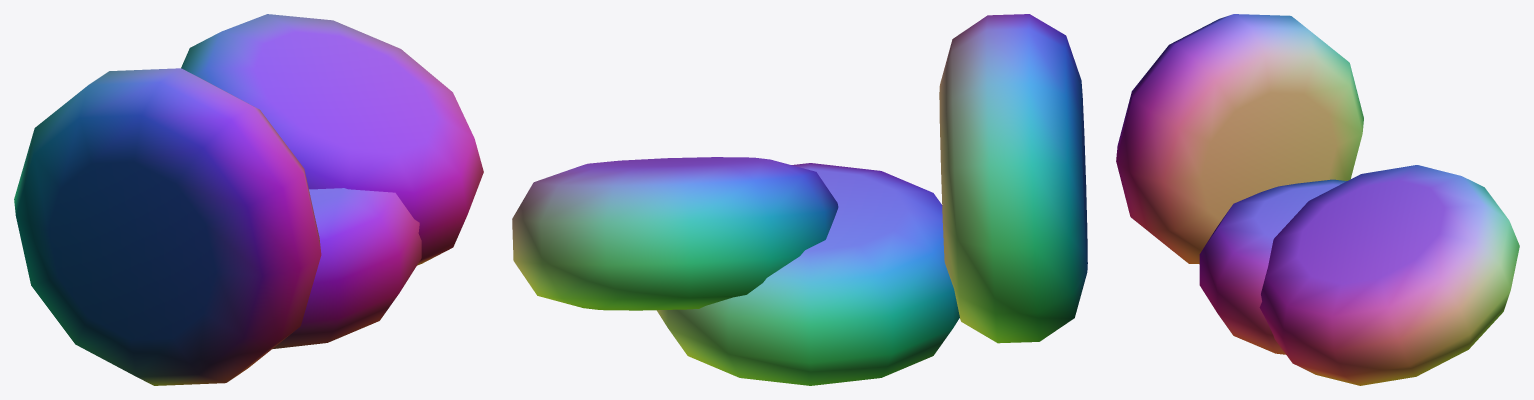
The model's file is SM_Pickup_Gold_S.fbx.
3 renders of one model, left to right at view 1: azimuth 30°, elevation 25°; view 2: azimuth 150°, elevation 25°; view 3: azimuth 270°, elevation 25°, orthographic. The views are drawn at different scales.
Visible parts, largest first — view 1: SM_Pickup_Gold_S; view 2: SM_Pickup_Gold_S; view 3: SM_Pickup_Gold_S.
Boxes of the visible parts, x1,y1,x2,y2 form: SM_Pickup_Gold_S: [14, 14, 483, 385]; SM_Pickup_Gold_S: [512, 14, 1087, 385]; SM_Pickup_Gold_S: [1116, 14, 1519, 385].
Size of the model in its own units: 0.1486 by 0.0876 by 0.1304.
